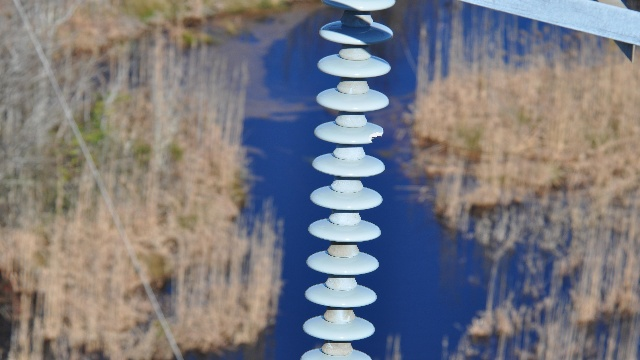broken_local: (364, 127, 387, 147)
insulator_unspecified: (299, 0, 401, 359)
